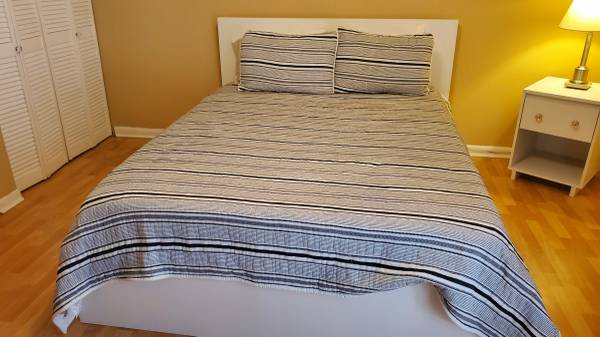bed: (82, 18, 515, 337)
lamp: (557, 1, 600, 90)
night stand: (508, 75, 600, 198)
